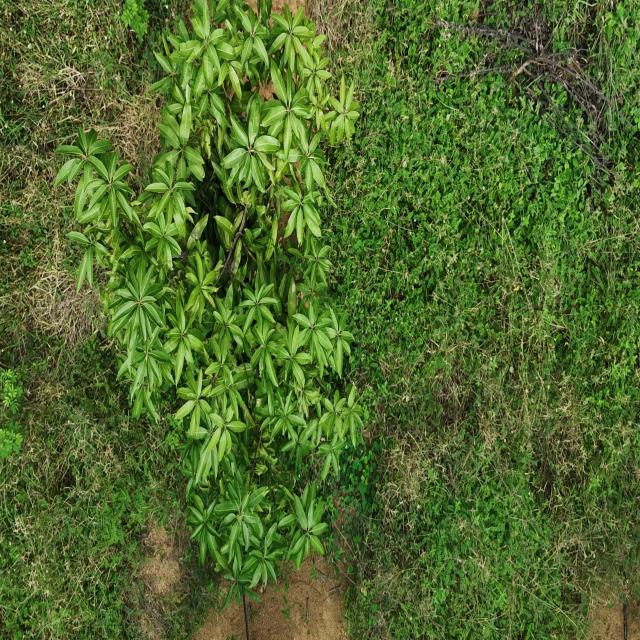mangoTree: (53, 0, 368, 616)
